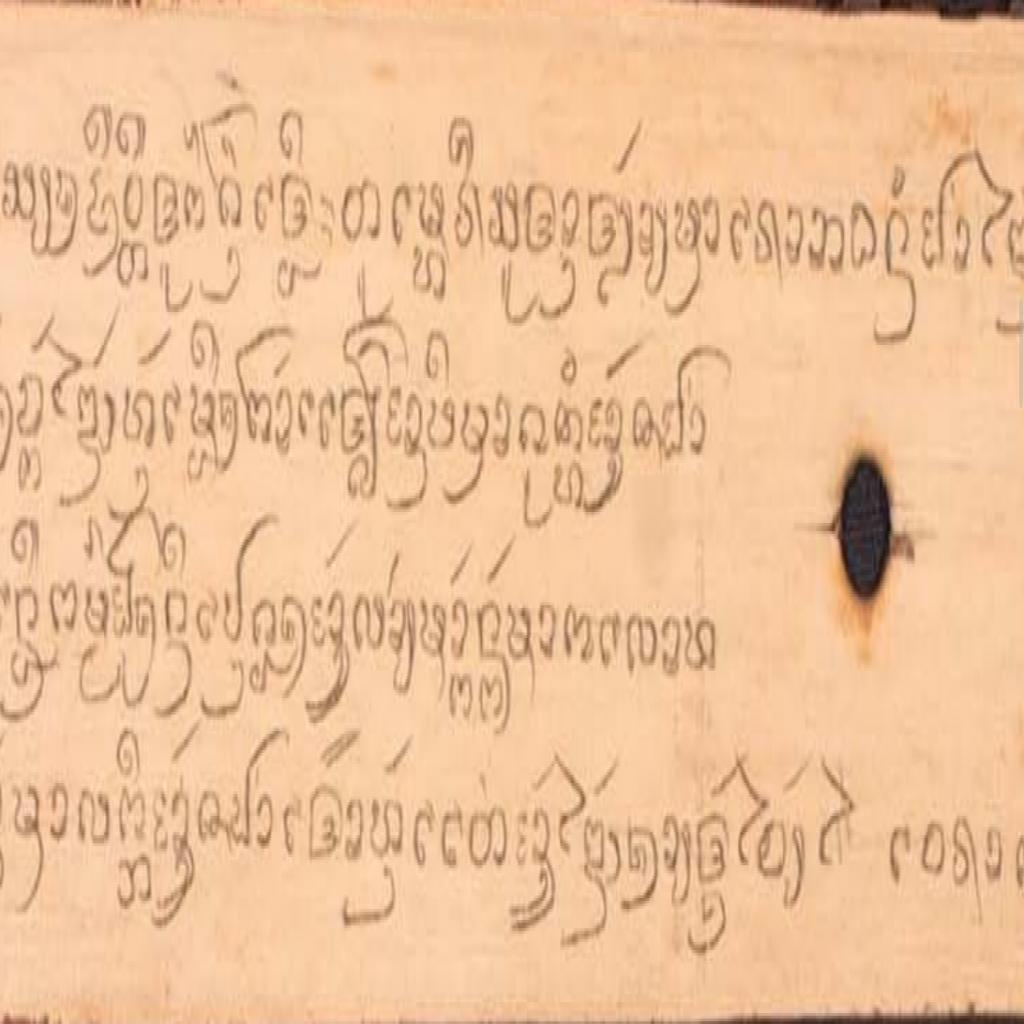LN041: (586, 388, 627, 464)
